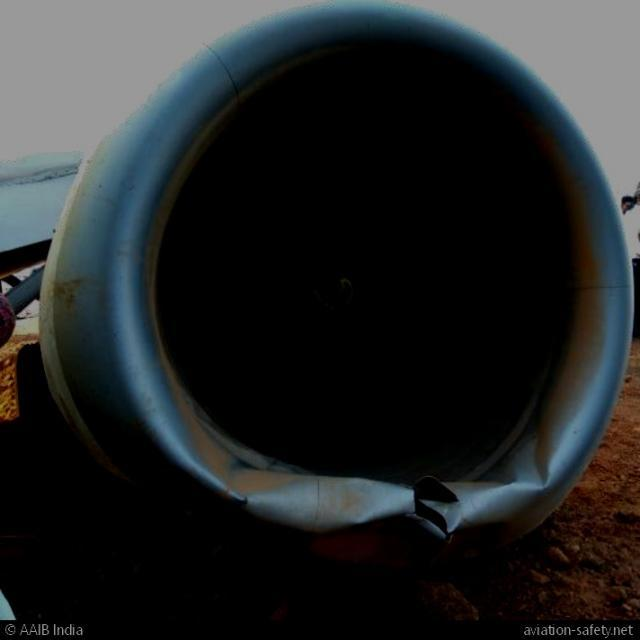dent: (229, 456, 391, 532), (504, 424, 562, 492)
